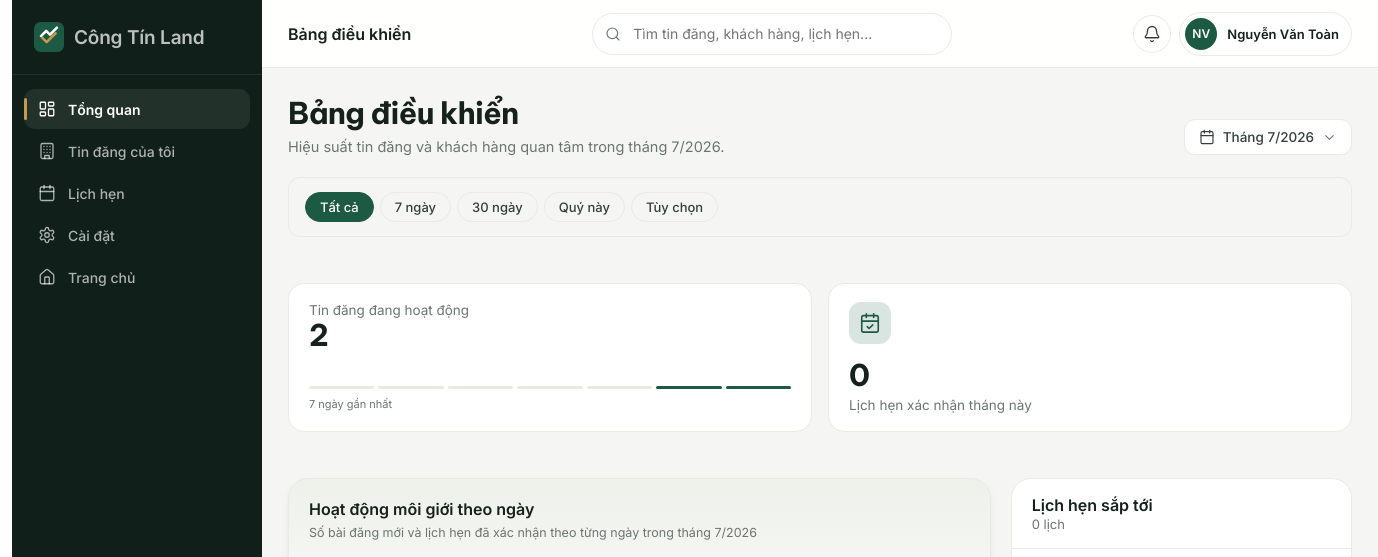
Test case: KPI cards show 0 when the date filter excludes all listings, not the unfiltered totals
Expected: the button "7 ngày" is shown, [380, 192, 451, 222]
Click the button "Tùy chọn" at point(675, 207), box [631, 192, 718, 222]
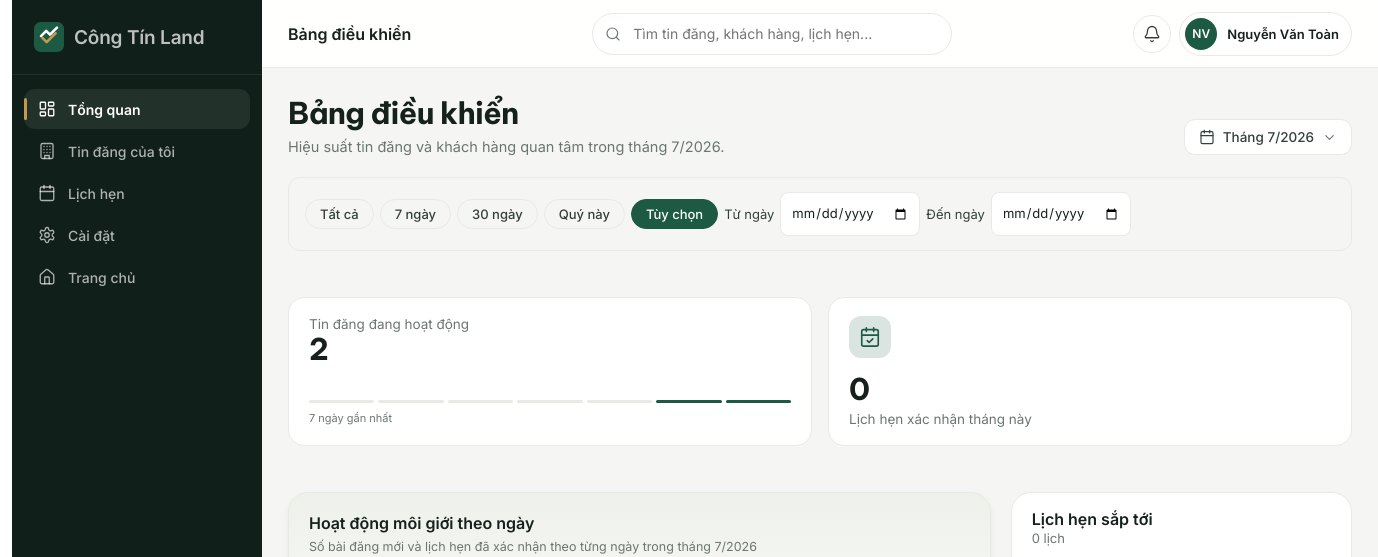
Type "2020-01-01" into the date field labelled "Từ ngày" at point(850, 214), box [780, 192, 920, 236]
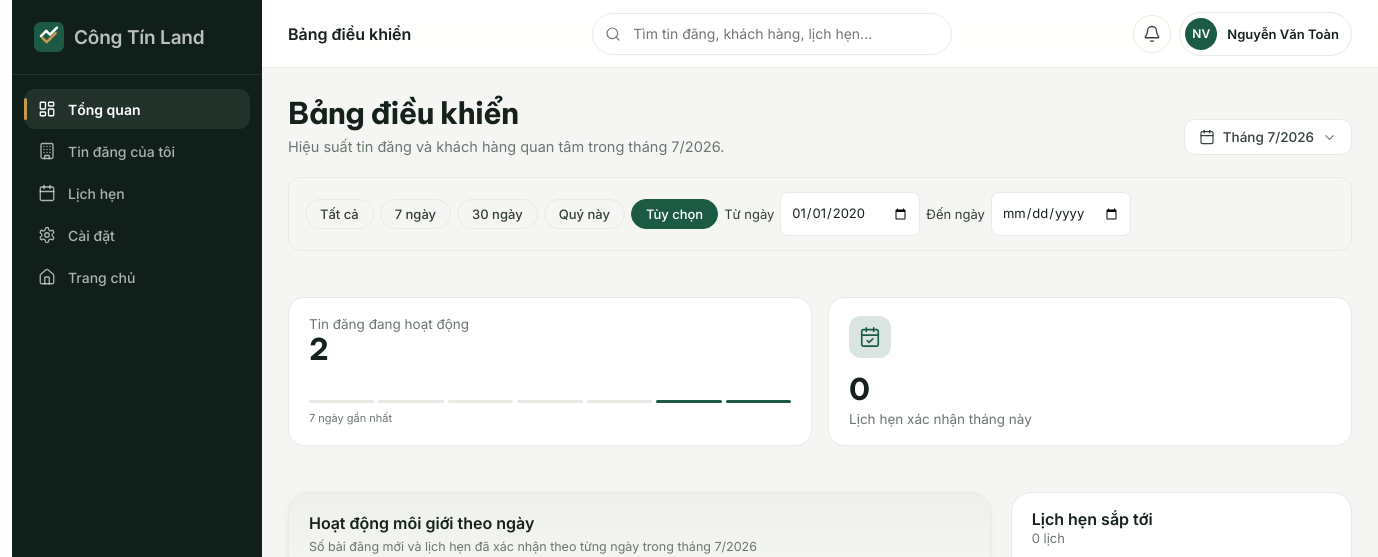
Type "2020-01-02" into the date field labelled "Đến ngày" at point(1061, 214), box [991, 192, 1131, 236]
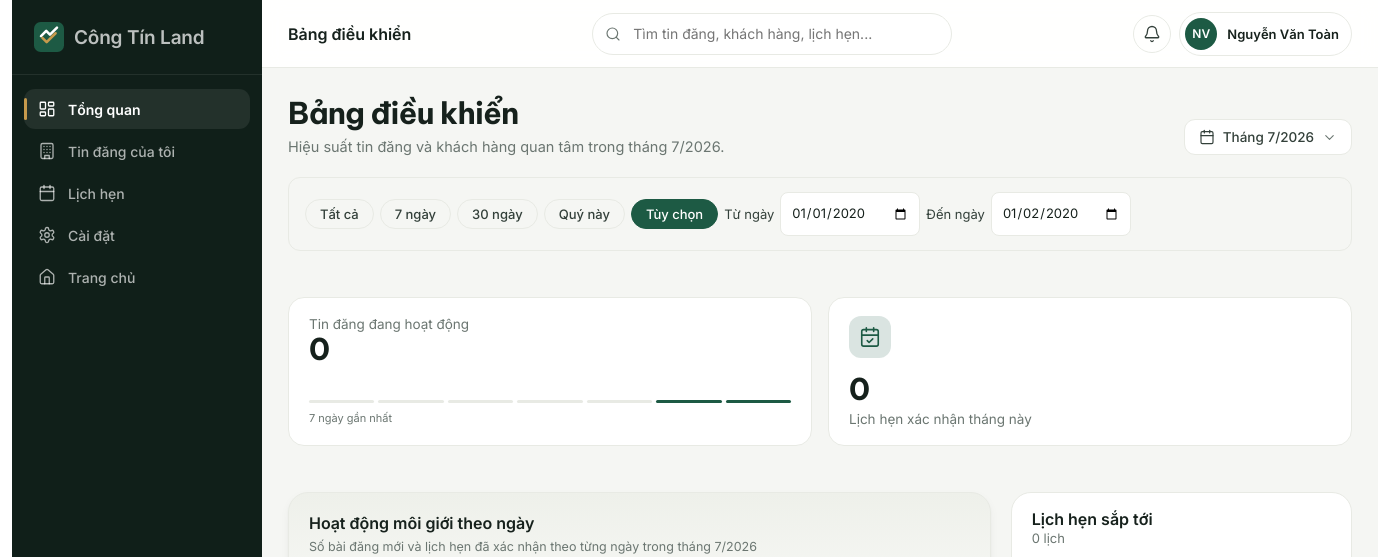
Result: the text with class "stat-card-value" below "Tin đăng đang hoạt động" reads "0" at [309, 330, 329, 368]
